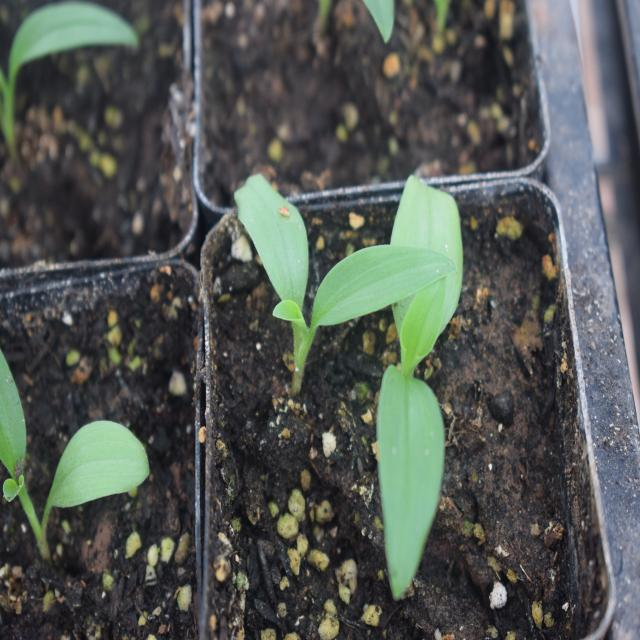Common Dayflower: (381, 138, 470, 592), (239, 165, 400, 348)
